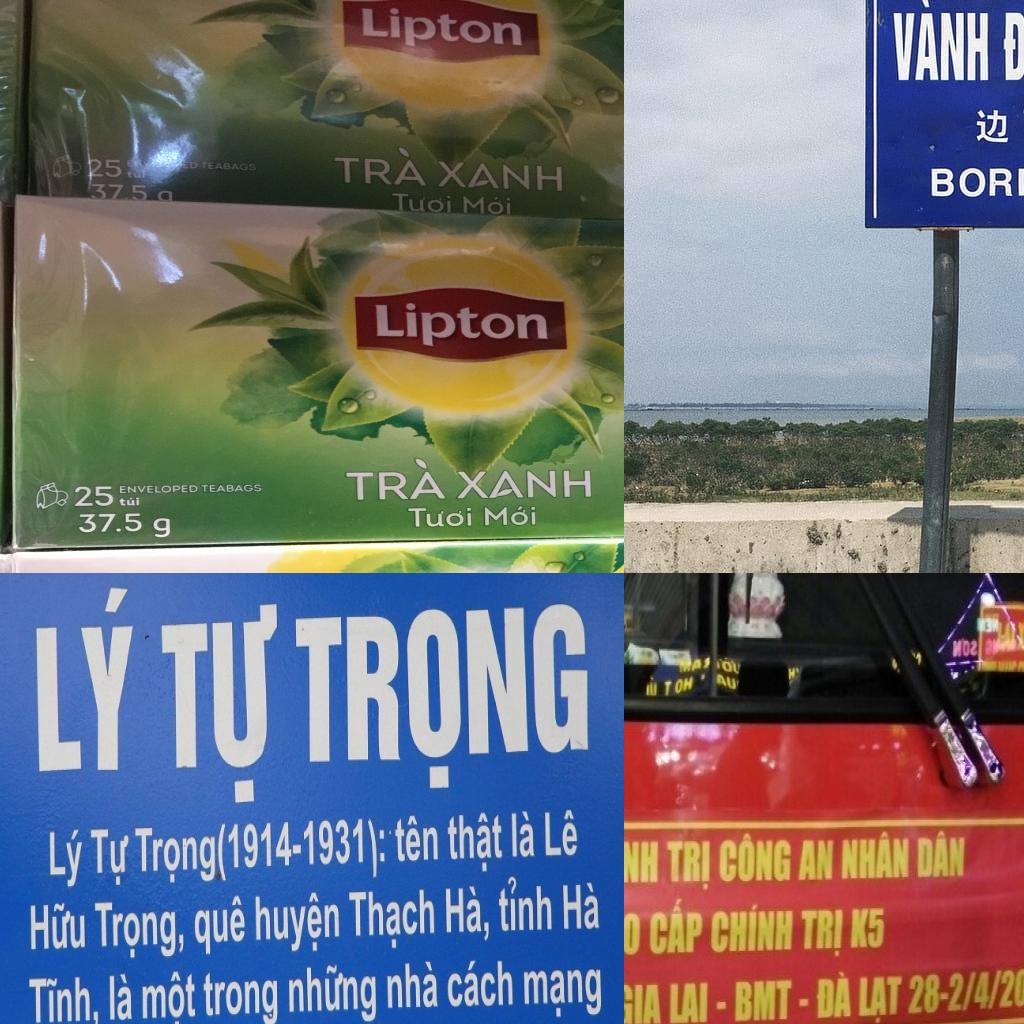text: (294, 600, 592, 801), (159, 602, 280, 809), (34, 586, 138, 775), (891, 0, 991, 83), (374, 303, 549, 347), (360, 7, 521, 51), (347, 885, 437, 954), (302, 814, 388, 884), (253, 891, 343, 956), (216, 816, 294, 890), (133, 823, 218, 890), (286, 963, 378, 1024), (94, 899, 185, 960), (709, 897, 796, 956), (716, 829, 794, 888), (344, 457, 448, 501), (522, 967, 605, 1021), (946, 960, 1024, 1016), (202, 969, 280, 1024), (840, 827, 912, 884), (446, 809, 506, 877), (26, 970, 100, 1024), (436, 161, 564, 192), (456, 470, 592, 499), (330, 146, 428, 186), (648, 897, 705, 961), (445, 958, 515, 1010), (496, 874, 554, 936), (193, 891, 246, 958), (29, 898, 88, 954), (929, 165, 1024, 199), (140, 970, 197, 1024), (914, 827, 968, 883), (732, 976, 795, 1024), (444, 882, 491, 946), (385, 957, 440, 1011), (664, 837, 714, 893), (89, 826, 132, 890), (855, 972, 905, 1024), (798, 904, 846, 958), (393, 813, 441, 866), (48, 827, 86, 892), (664, 976, 712, 1024), (624, 828, 662, 888), (813, 966, 854, 1020), (847, 904, 889, 955), (561, 879, 601, 932), (908, 969, 949, 1018), (797, 837, 837, 885), (624, 976, 664, 1024), (544, 808, 580, 859), (1002, 11, 1024, 83), (407, 506, 473, 528), (510, 808, 537, 861), (108, 968, 134, 1022), (76, 513, 142, 533), (392, 193, 452, 213), (482, 505, 538, 526), (89, 184, 149, 200), (462, 196, 512, 215), (73, 485, 115, 507), (624, 906, 641, 959), (996, 616, 1018, 656), (119, 485, 198, 494), (86, 159, 123, 177), (200, 484, 262, 493), (200, 162, 257, 171), (152, 518, 170, 538), (1017, 618, 1024, 652), (118, 496, 140, 506), (126, 169, 146, 179), (183, 162, 198, 170)
